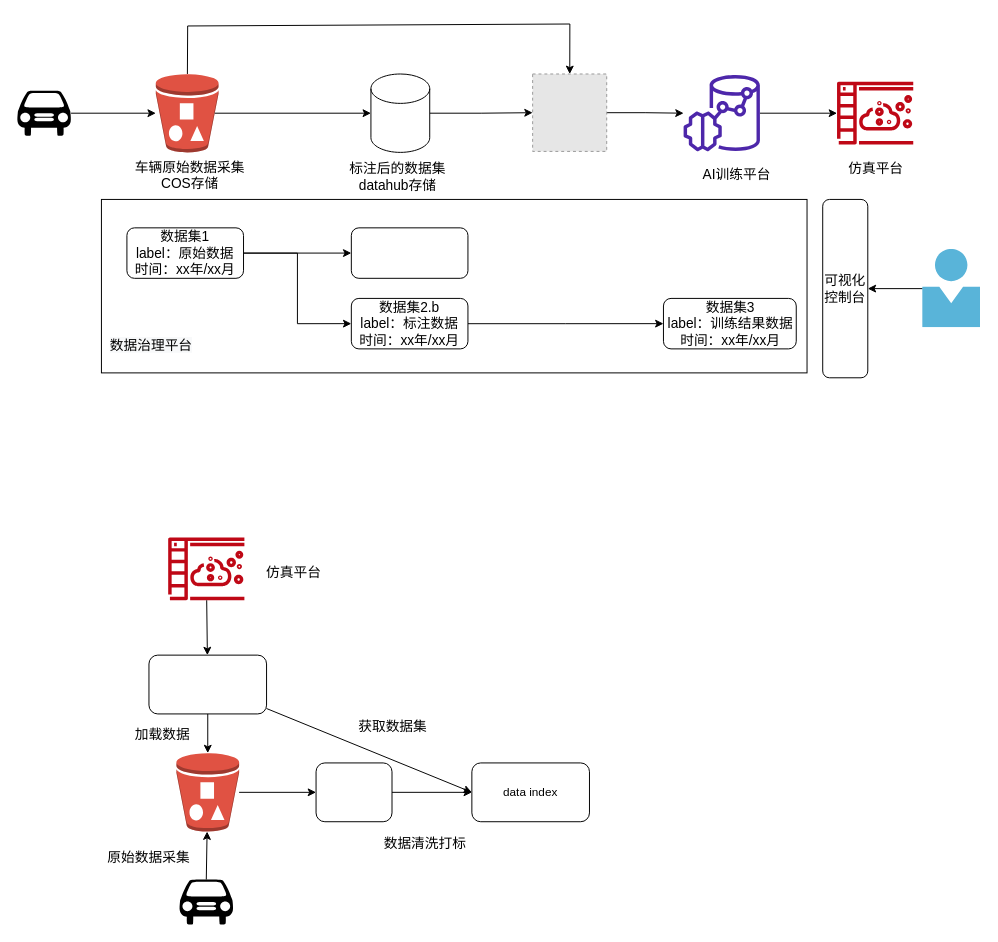
The diagram is 998 pixels wide and 942 high, and some of its shapes have lost their labels. Grey dashed boxes stand in for pictures. The shapes that lost their labels are listed below. From the top down, each one's centre as x and y in pixels, then its label:
the point at 409,252: 数据集2.a label：标注数据 时间：xx年/xx月
the point at 207,684: GooseFSx
the point at 353,792: AI或人工标注
